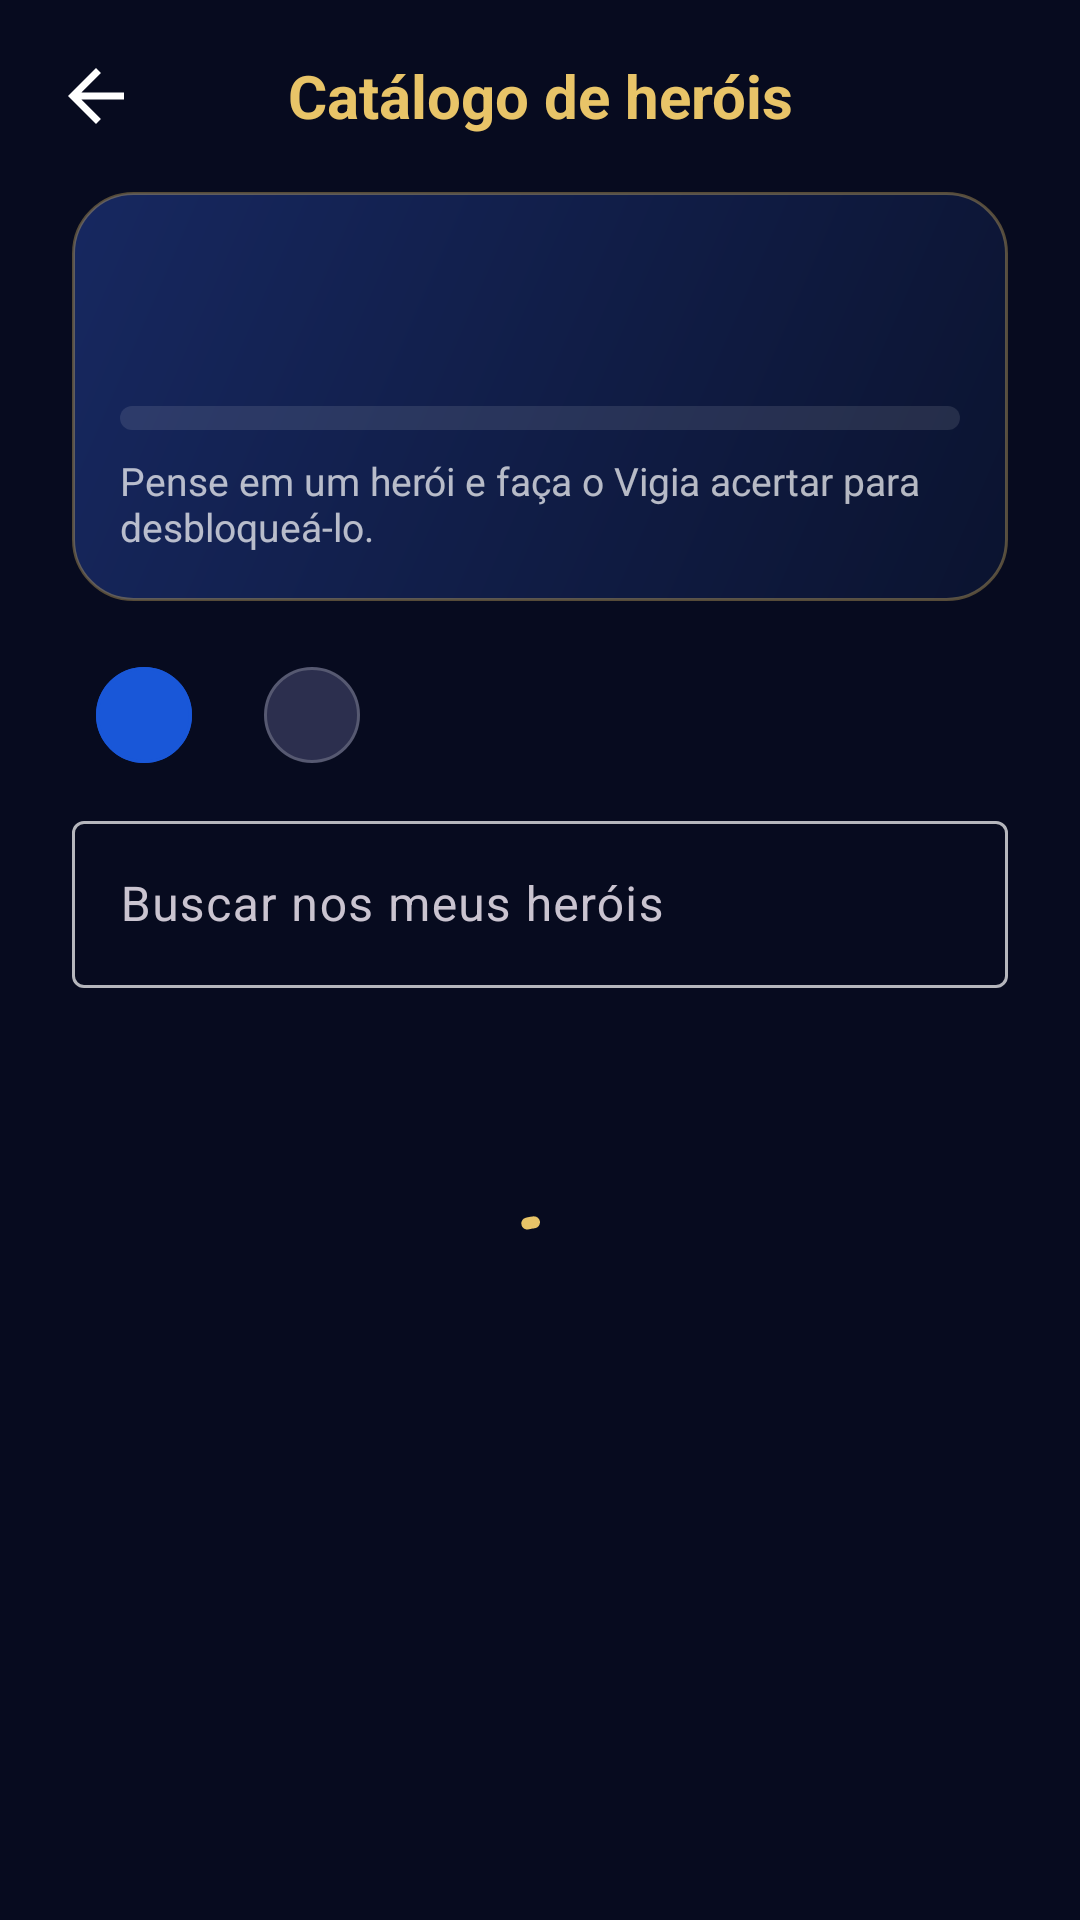

Where icons sit on this 1080 × 1920 app screen, as (x1, y1, x2, y2):
Voltar: (68, 68, 124, 124)
